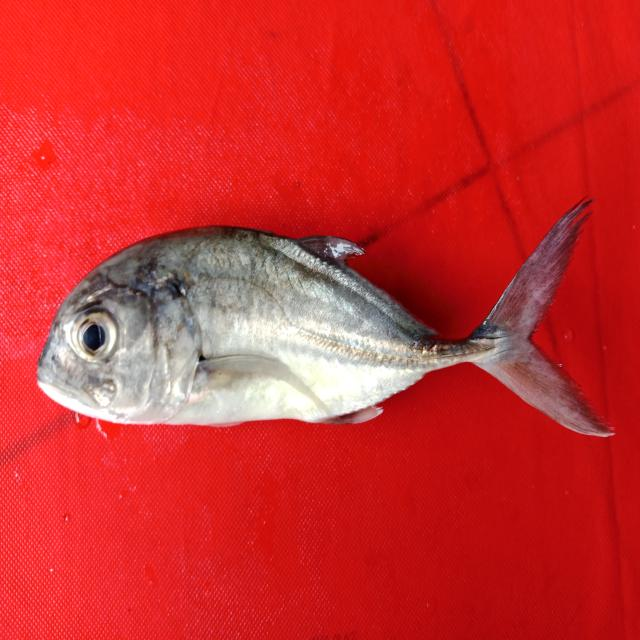ikan: (36, 195, 615, 438)
